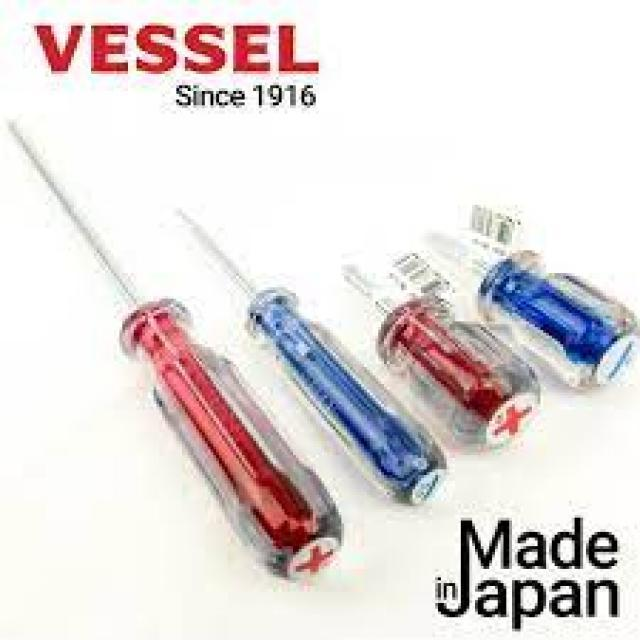screwdriver: (4, 109, 343, 579), (171, 199, 452, 509), (336, 260, 546, 457), (424, 226, 640, 397)
